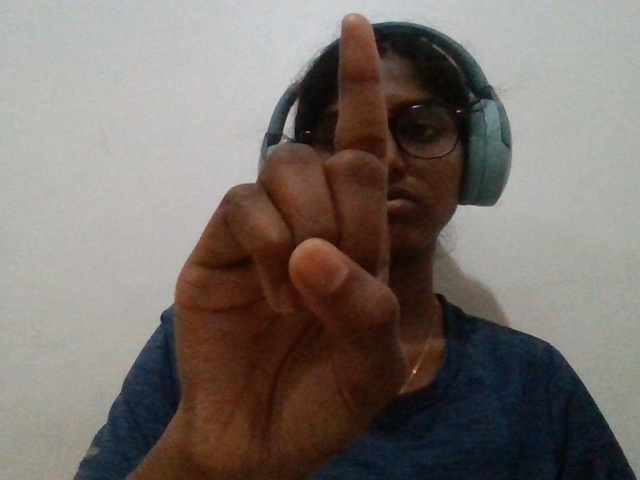D: (112, 9, 443, 480)
